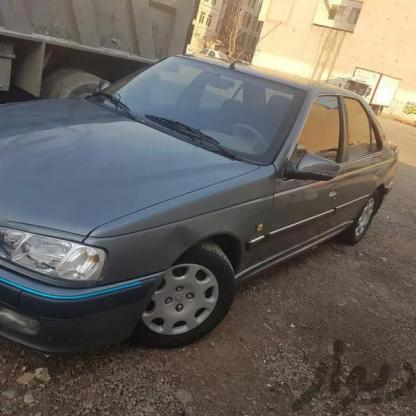Car: (0, 51, 395, 380)
Truck: (0, 0, 208, 118), (336, 65, 405, 119)
